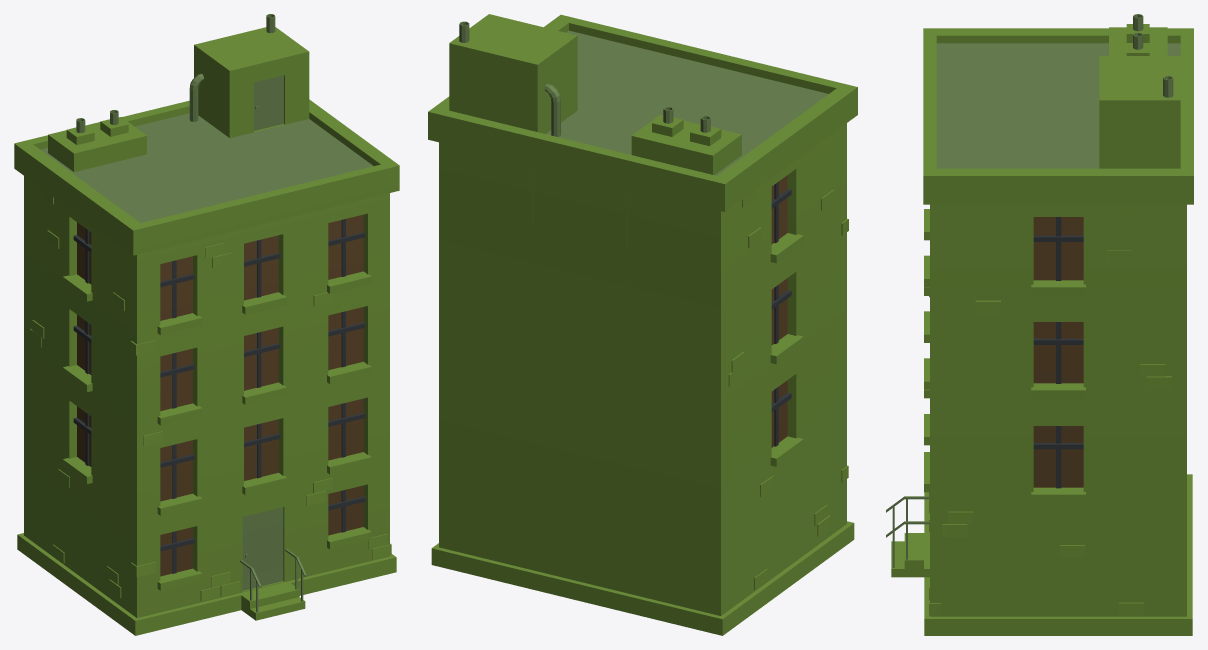
Rendered from House_04.fbx.
The picture shows the model from 3 angles, left to right: view 1: azimuth 30°, elevation 25°; view 2: azimuth 150°, elevation 25°; view 3: azimuth 270°, elevation 25°; orthographic projection. The views are drawn at different scales.
Visible parts, largest first — view 1: House_04; view 2: House_04; view 3: House_04.
Part boxes in pixels (box(x1,y1,x2,y2)): House_04: box(14, 14, 399, 635); House_04: box(428, 14, 857, 635); House_04: box(886, 14, 1193, 635).
Size of the model in its own units: 7.14 by 12.35 by 6.29.
